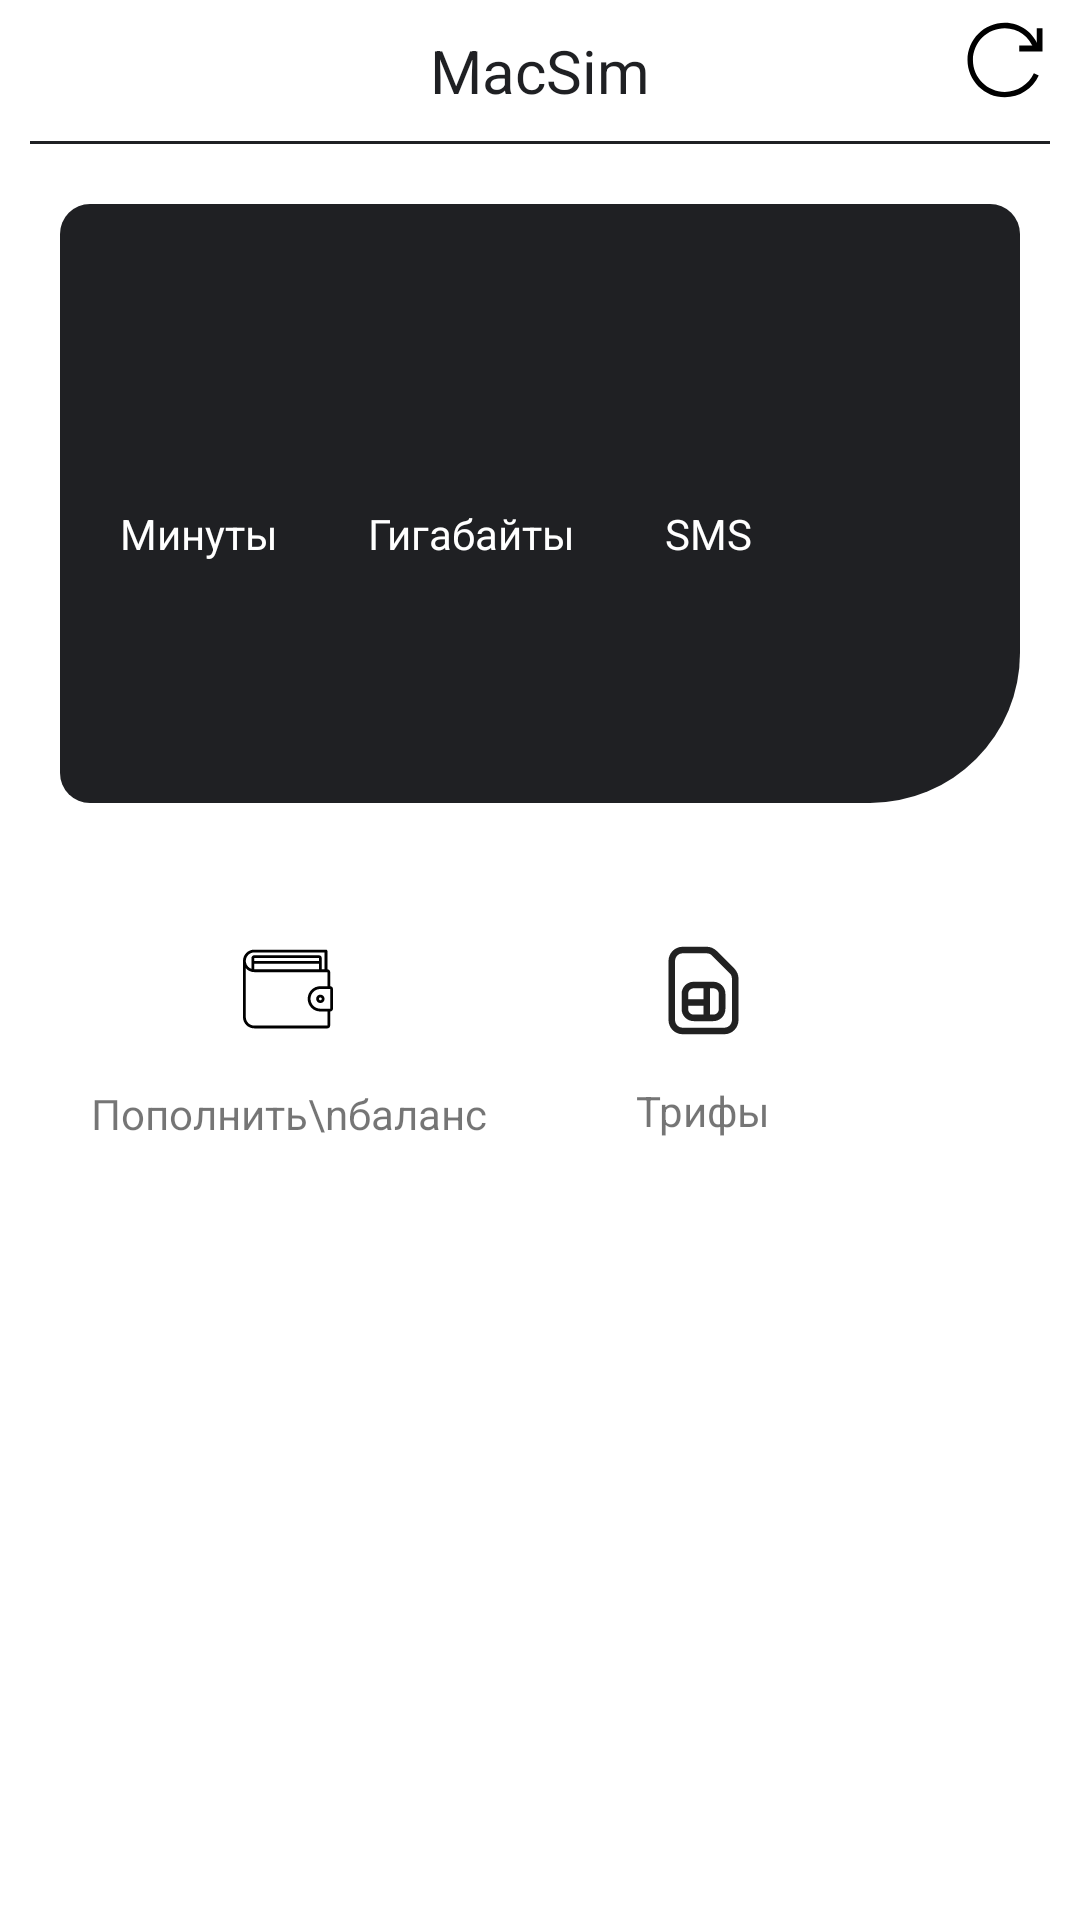

Named icons in this screenshot (1080×1920) and their centers, (x=x, y=y):
balance: (x=288, y=989)
reload: (x=1005, y=60)
sim: (x=703, y=990)
